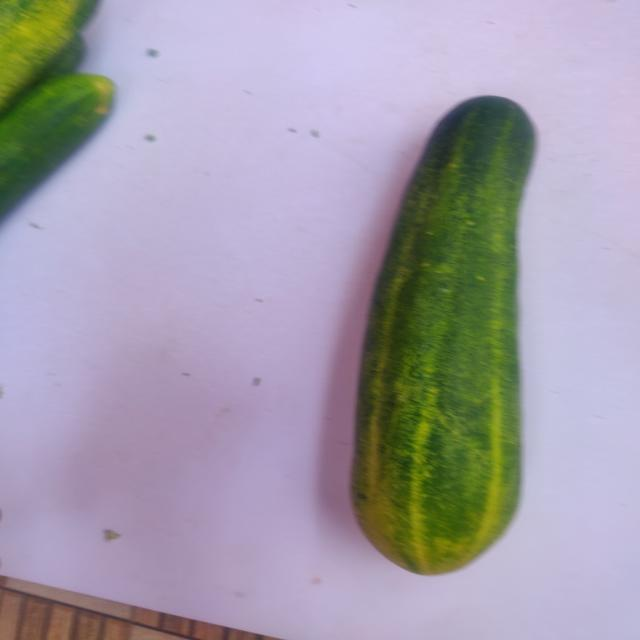Cucumber: (339, 88, 566, 589)
